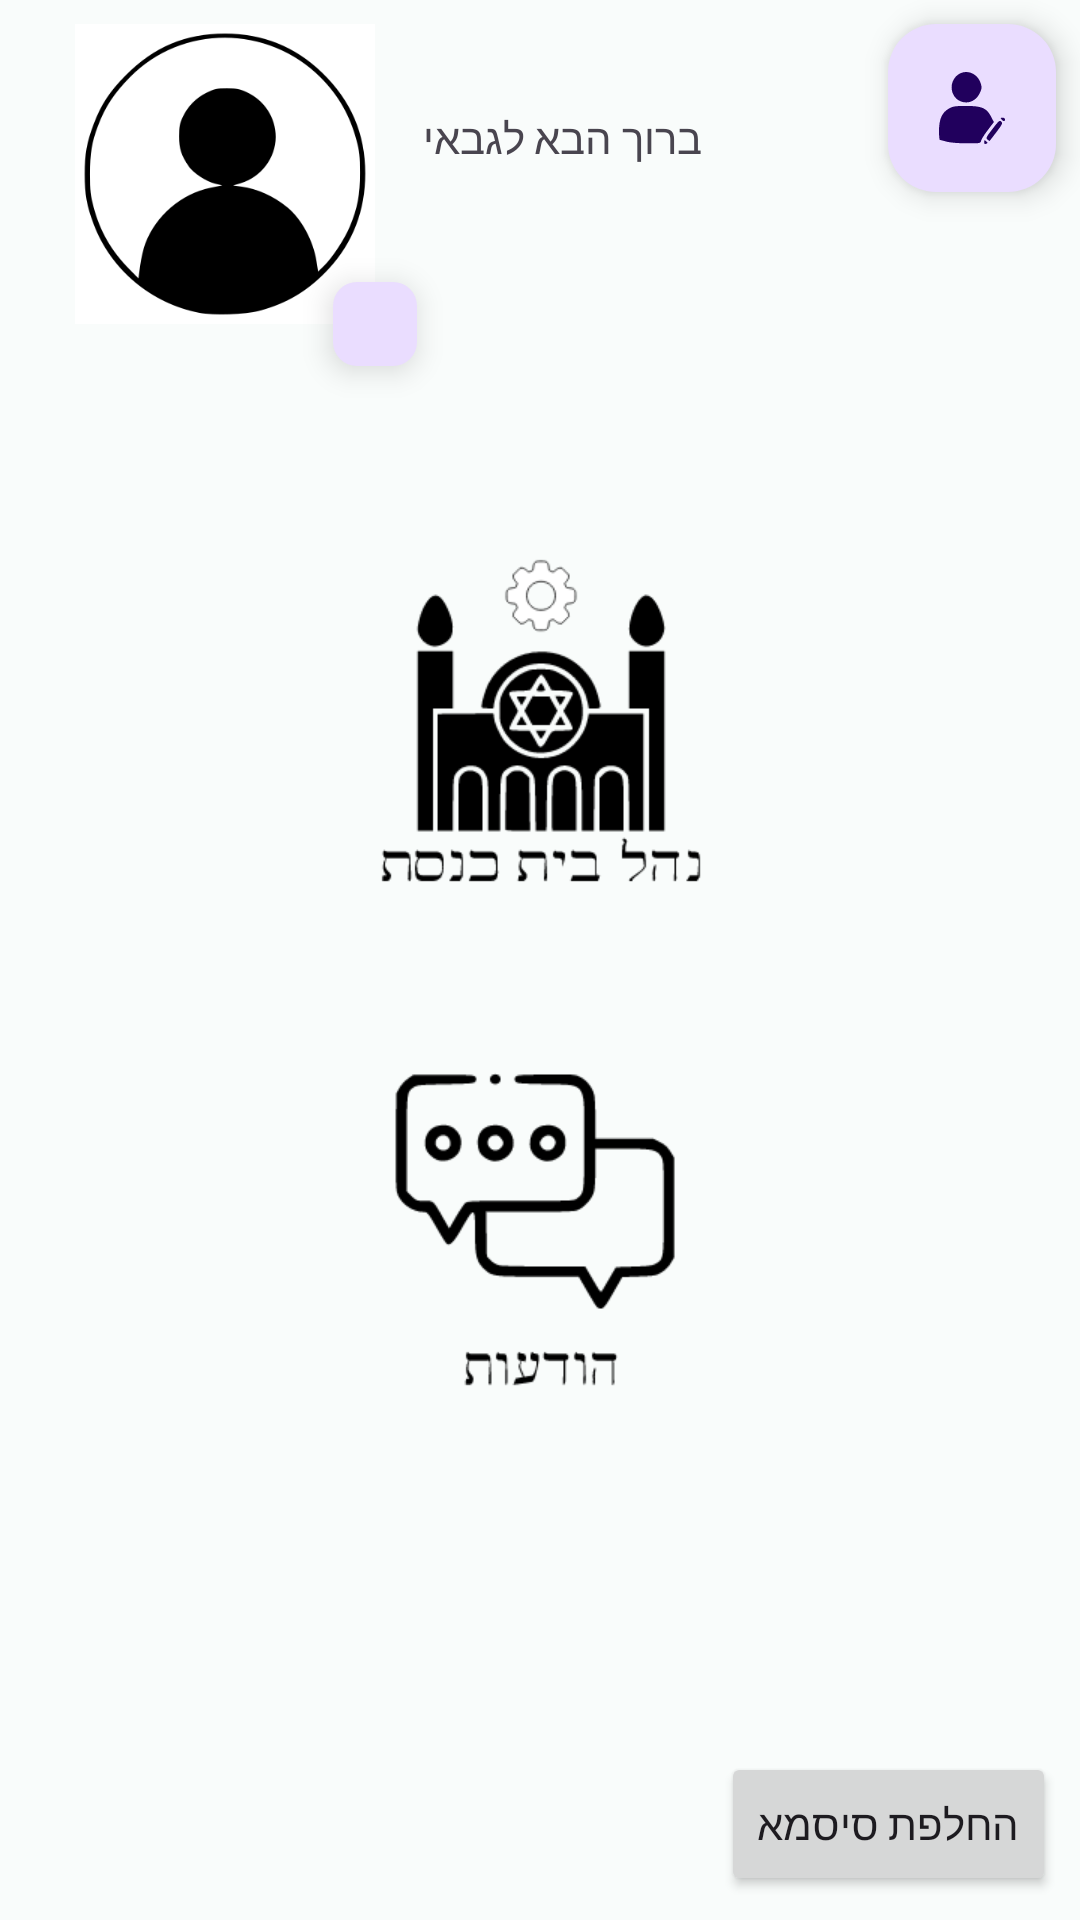

Icon click points for this 1080 × 1920 phone screenshot, format (x=x, y=y):
avater: (x=225, y=174)
profile edit: (x=972, y=108)
